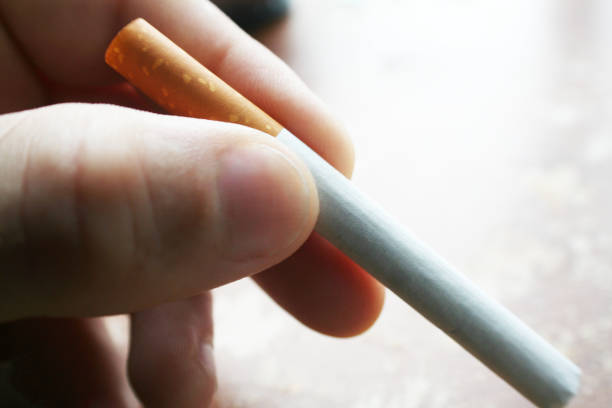cigarette: (105, 13, 581, 408)
